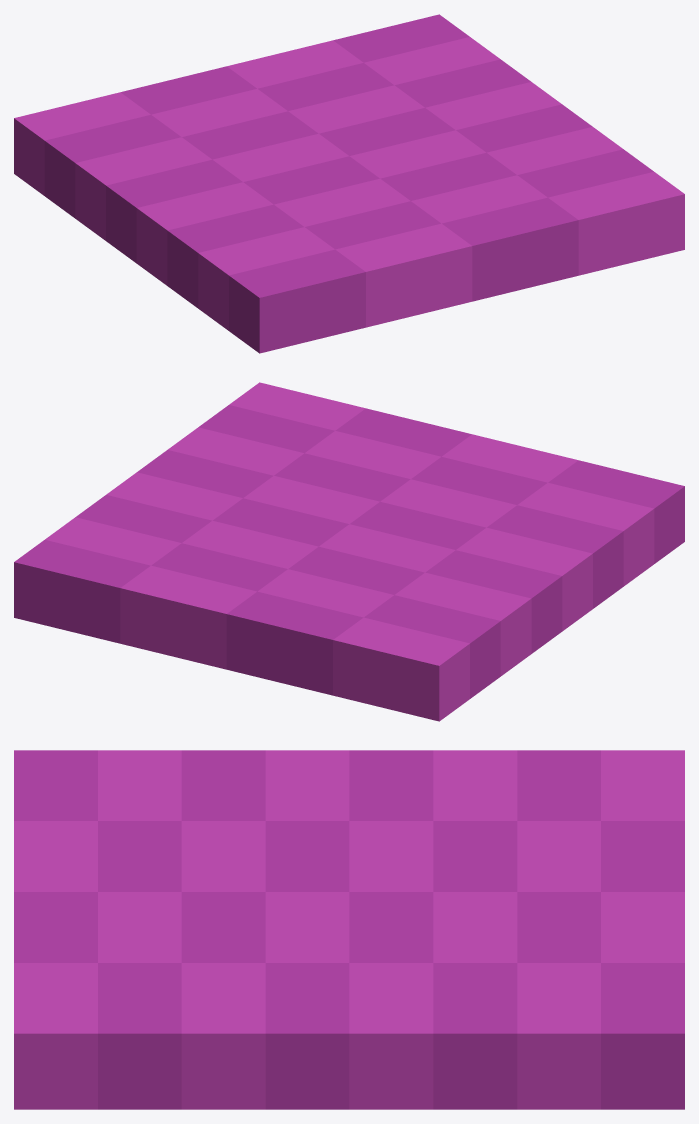
Rendered from carpet_magenta_model.glb.
The picture shows the model from 3 angles, top to bottom: view 1: azimuth 30°, elevation 25°; view 2: azimuth 150°, elevation 25°; view 3: azimuth 270°, elevation 25°; orthographic projection. The views are drawn at different scales.
Visible parts, largest first — view 1: Untitled; view 2: Untitled; view 3: Untitled.
Boxes of the visible parts, x1,y1,x2,y2 form: Untitled: [14, 14, 684, 353]; Untitled: [14, 382, 684, 721]; Untitled: [14, 750, 684, 1109].
Bounding box in the file's own units: 0.8 × 0.1 × 0.8.
1 material, 1 textured.
